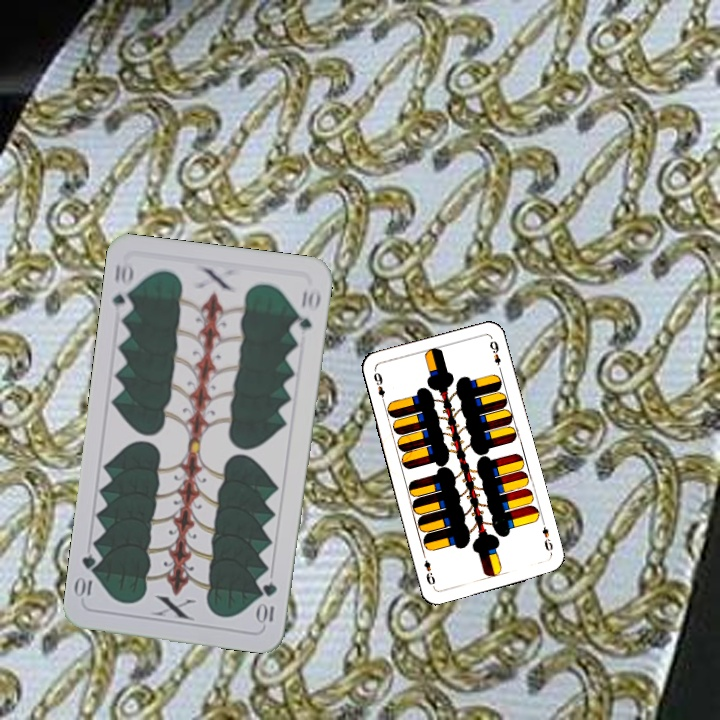E9: (369, 367, 388, 407), (538, 517, 556, 557)
G10: (108, 258, 137, 318), (255, 578, 280, 627)
